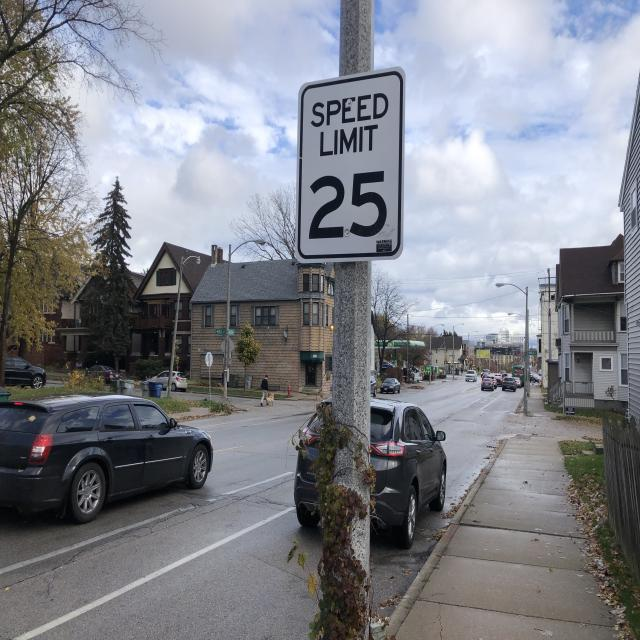speedLimit25: (297, 74, 402, 264)
